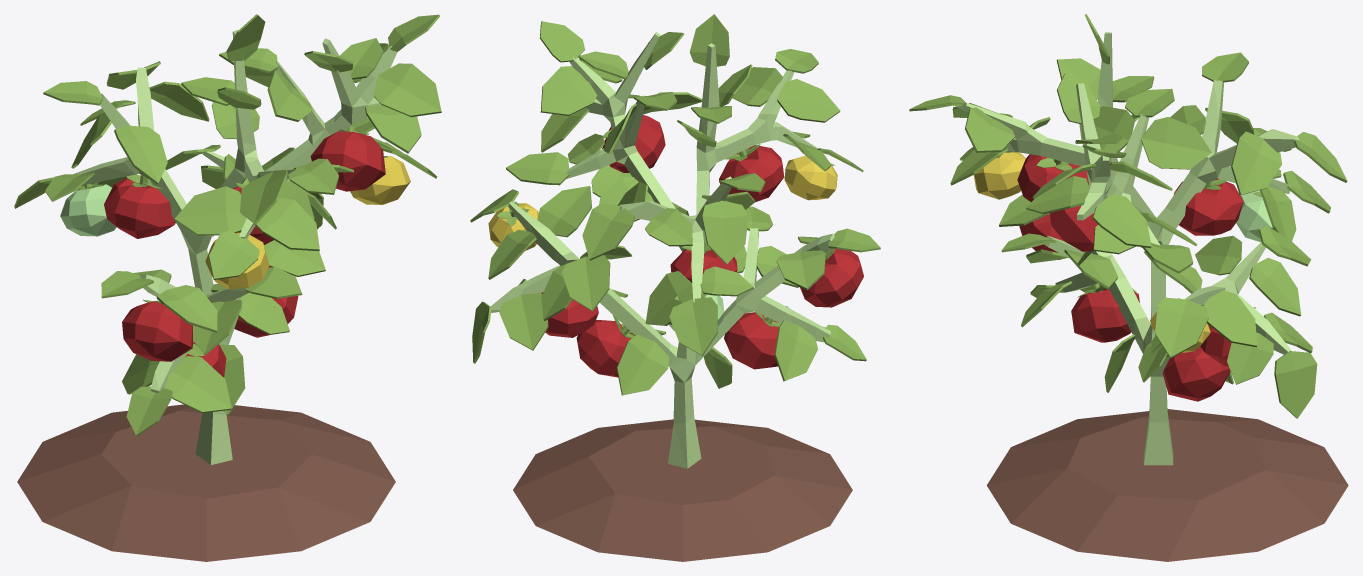
The model's file is TomatoStage3_Import.fbx.
3 renders of one model, left to right at view 1: azimuth 30°, elevation 25°; view 2: azimuth 150°, elevation 25°; view 3: azimuth 270°, elevation 25°, orthographic. The views are drawn at different scales.
Visible parts, largest first — view 1: Cylinder, Cube.001, branch_s3, Sphere.003, Sphere.039, Sphere.038; view 2: Cylinder, Cube.001, branch_s3, Sphere.003, Sphere.039; view 3: Cylinder, Cube.001, branch_s3, Sphere.003, Sphere.039, Sphere.038.
Boxes of the visible parts, x1,y1,x2,y2 form: Cylinder: (14,14,441,436); Cube.001: (17,404,395,561); branch_s3: (73,30,397,464); Sphere.003: (104,131,385,377); Sphere.039: (205,155,410,289); Sphere.038: (60,184,116,236); Cylinder: (470,14,880,395); Cube.001: (513,419,852,561); branch_s3: (490,32,834,468); Sphere.003: (541,115,863,377); Sphere.039: (488,155,837,250); Cylinder: (909,14,1347,418); Cube.001: (987,409,1348,561); branch_s3: (957,32,1299,465); Sphere.003: (1017,154,1243,401); Sphere.039: (973,152,1210,352); Sphere.038: (1236,190,1273,242).
Bounding box in the file's own units: 10234 × 10278 × 12263.
